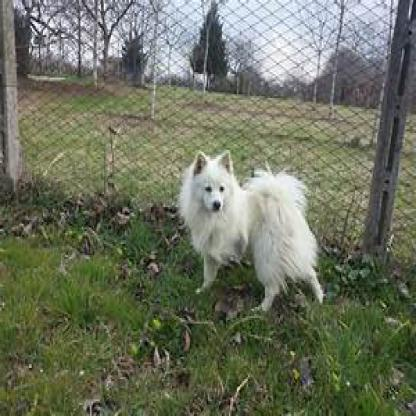dog: (184, 157, 312, 307)
